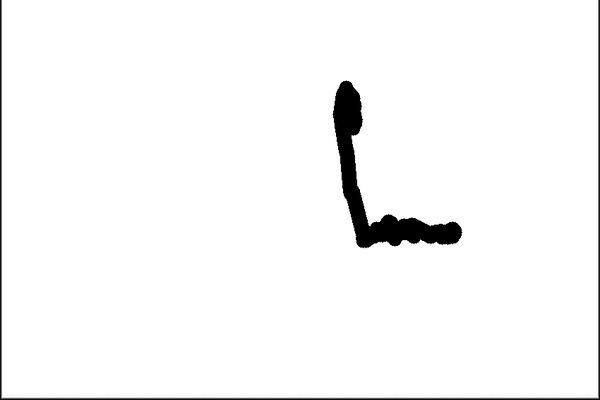L: (325, 74, 469, 253)
